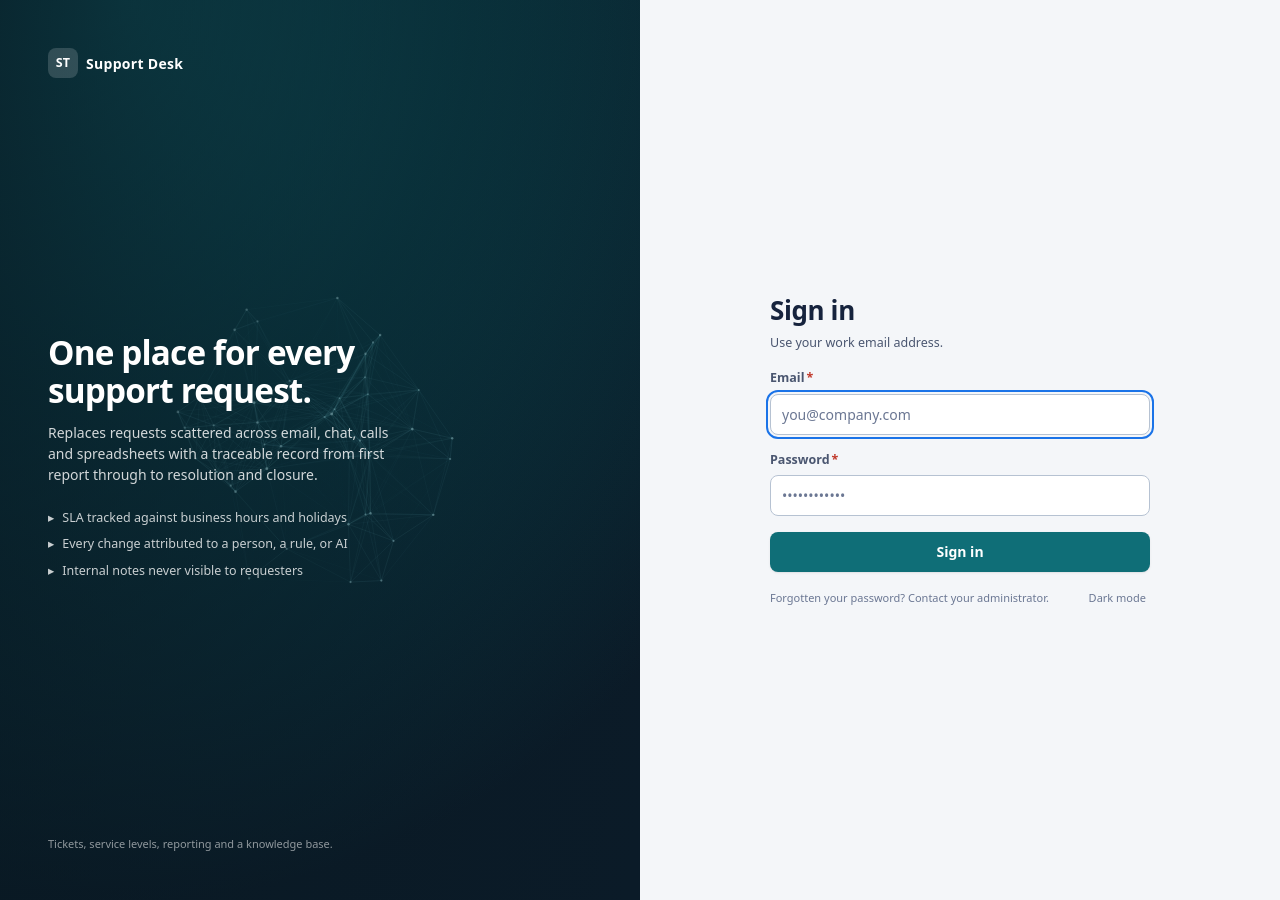
Test: LoginPage › requires a password
The image size is (1280, 900).
In the field labelled "Email*": (960, 414) [770,394,1150,435], type "agent@itg.test"
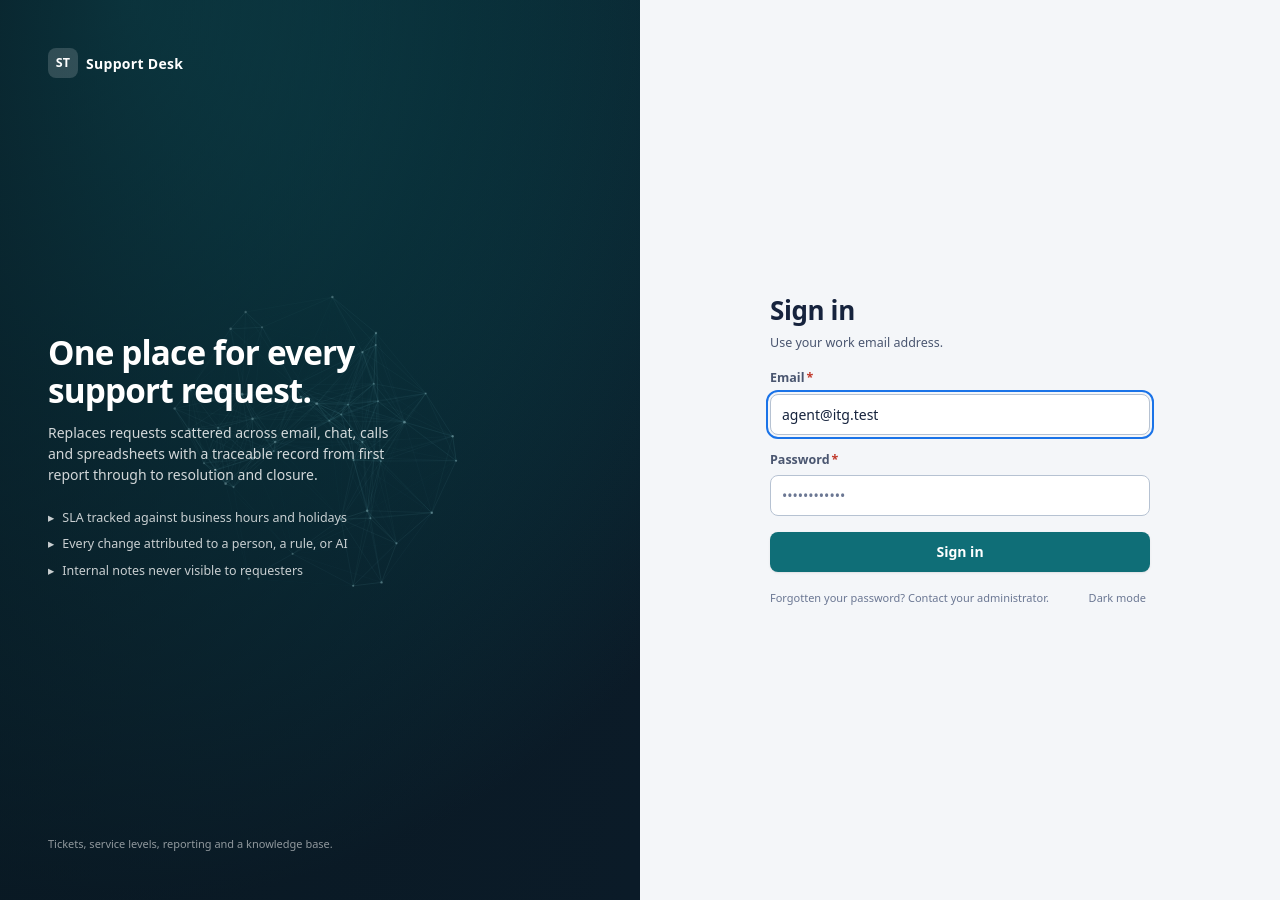
Click the button "Sign in": (960, 552) [770,532,1150,572]
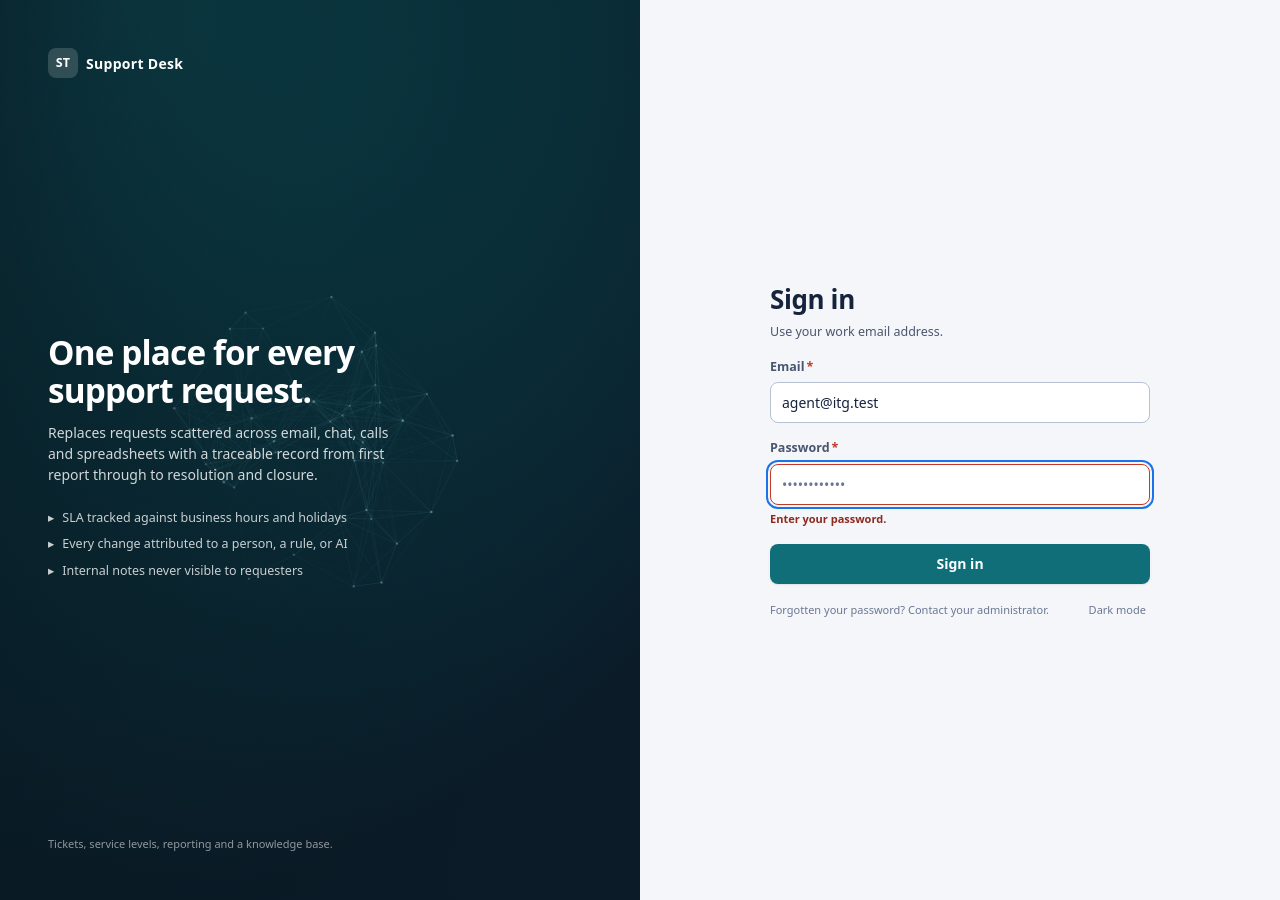
Expected: the text "Enter your password." is shown, [770,511,886,526]
